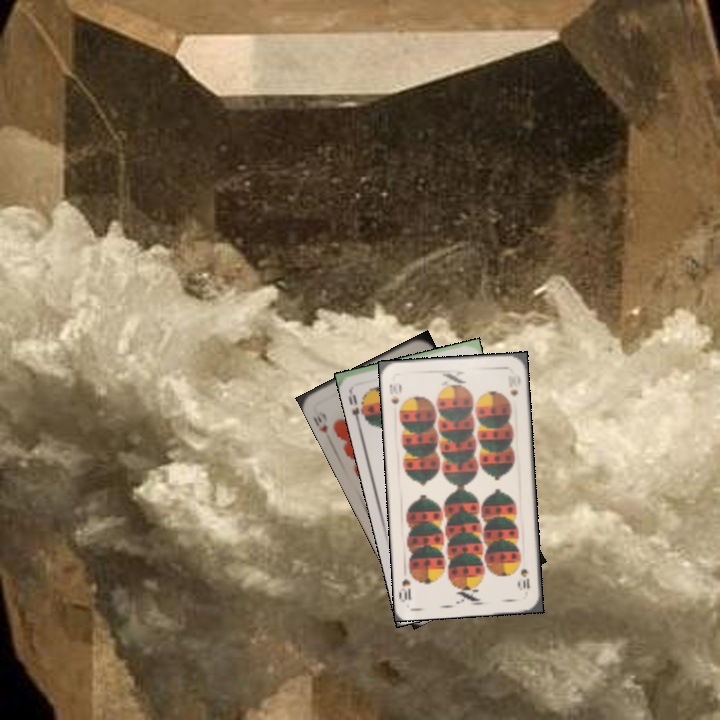H10: (310, 407, 333, 443)
S10: (515, 556, 532, 592), (385, 380, 403, 406)
SO: (344, 385, 370, 425)
